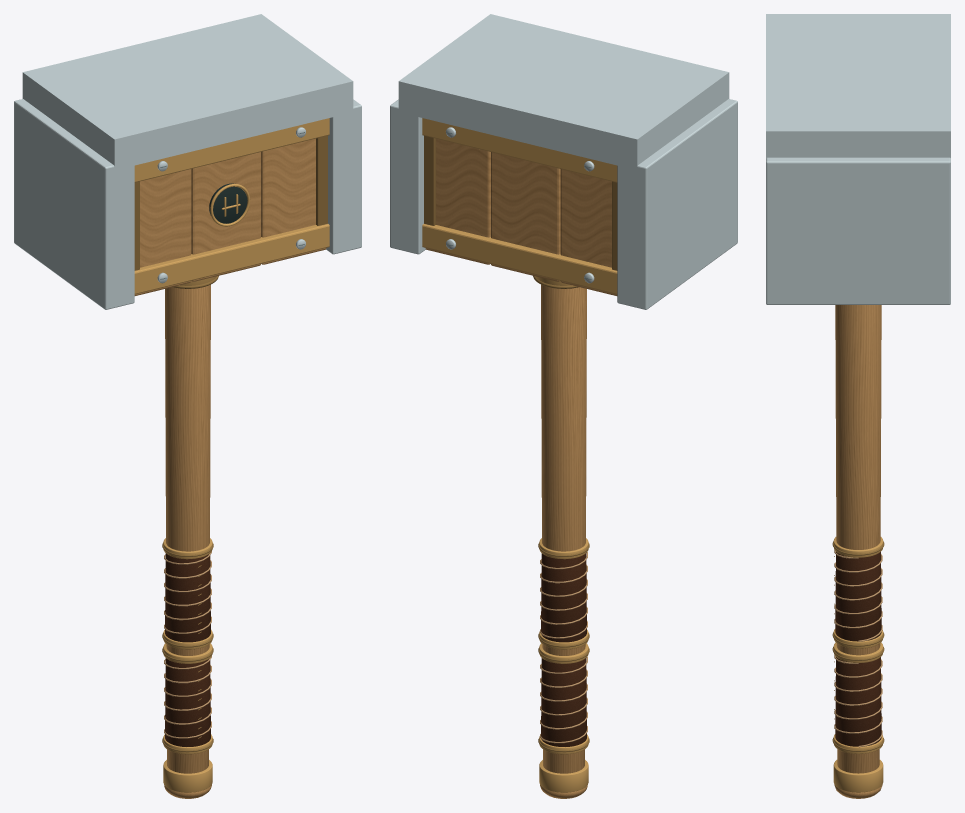
Rendered from maul.glb.
3 renders of one model, left to right at view 1: azimuth 30°, elevation 25°; view 2: azimuth 150°, elevation 25°; view 3: azimuth 270°, elevation 25°, orthographic.
Visible parts, largest first — view 1: Render_maul; view 2: Render_maul; view 3: Render_maul.
Part boxes in pixels (bbox=[...]): Render_maul: bbox=[14, 14, 361, 798]; Render_maul: bbox=[390, 14, 737, 798]; Render_maul: bbox=[766, 14, 950, 798].
Size of the model in its own units: 0.565 by 1.51 by 0.35.
10 materials, 4 textured.
